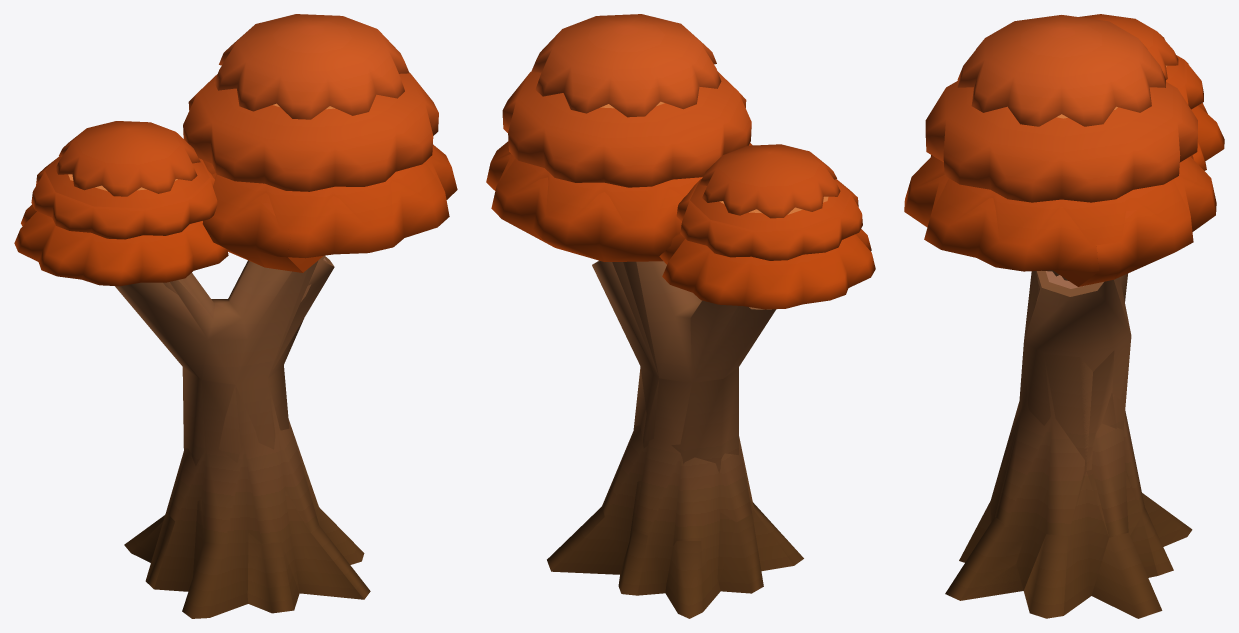
The model's file is Autumn Tree.fbx.
3 renders of one model, left to right at view 1: azimuth 30°, elevation 25°; view 2: azimuth 150°, elevation 25°; view 3: azimuth 270°, elevation 25°, orthographic. The views are drawn at different scales.
Visible parts, largest first — view 1: AutumnTree1, AutumnTree5, AutumnTree3, AutumnTree2, AutumnTree4, AutumnTree6; view 2: AutumnTree1, AutumnTree5, AutumnTree2, AutumnTree4, AutumnTree3, AutumnTree6; view 3: AutumnTree1, AutumnTree5, AutumnTree4, AutumnTree3, AutumnTree6, AutumnTree2.
Part boxes in pixels (left/top/right/bottom): AutumnTree1: left=14, top=14, right=457, bottom=613; AutumnTree5: left=163, top=256, right=334, bottom=592; AutumnTree3: left=45, top=156, right=451, bottom=610; AutumnTree2: left=20, top=103, right=335, bottom=339; AutumnTree4: left=115, top=198, right=324, bottom=618; AutumnTree6: left=154, top=419, right=361, bottom=617; AutumnTree1: left=486, top=14, right=875, bottom=618; AutumnTree5: left=592, top=260, right=754, bottom=584; AutumnTree2: left=600, top=101, right=871, bottom=593; AutumnTree4: left=503, top=154, right=803, bottom=611; AutumnTree3: left=491, top=154, right=850, bottom=574; AutumnTree6: left=605, top=446, right=681, bottom=582; AutumnTree1: left=904, top=14, right=1224, bottom=618; AutumnTree5: left=960, top=270, right=1157, bottom=600; AutumnTree4: left=961, top=210, right=1213, bottom=615; AutumnTree3: left=912, top=55, right=1210, bottom=562; AutumnTree6: left=1006, top=419, right=1051, bottom=613; AutumnTree2: left=1052, top=103, right=1216, bottom=276.
Bounding box in the file's own units: 274 × 362 × 186.
